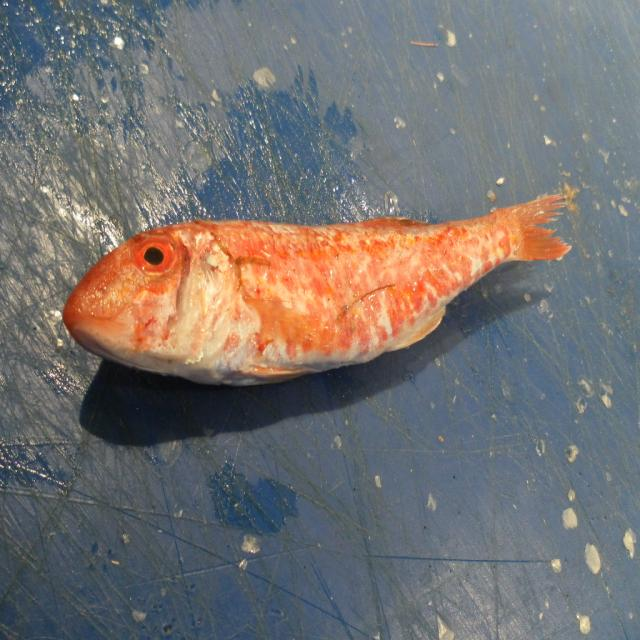Red-Mullet-kefal-: (61, 189, 575, 390)
